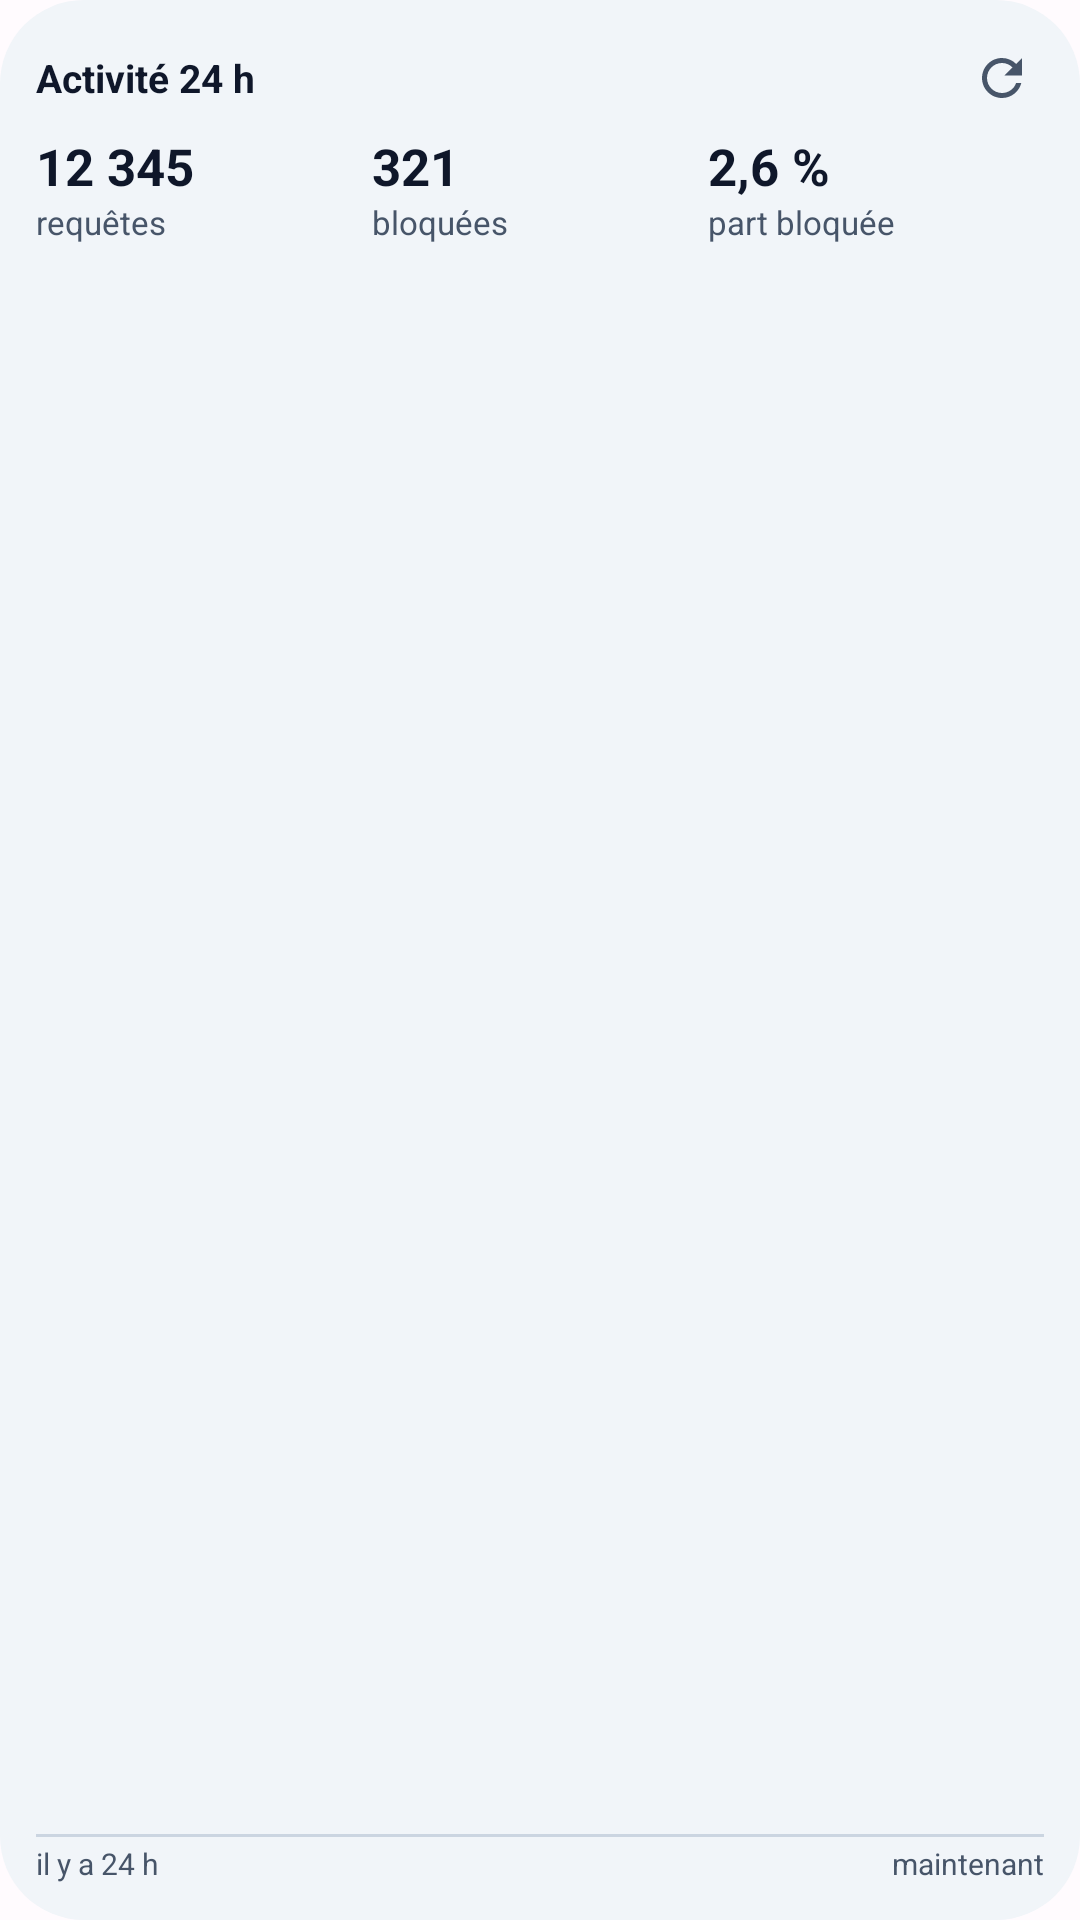

Screen size 1080x1920. Icon name, then its center in pixels as (x,y):
Actualiser les statistiques: (1002,78)
